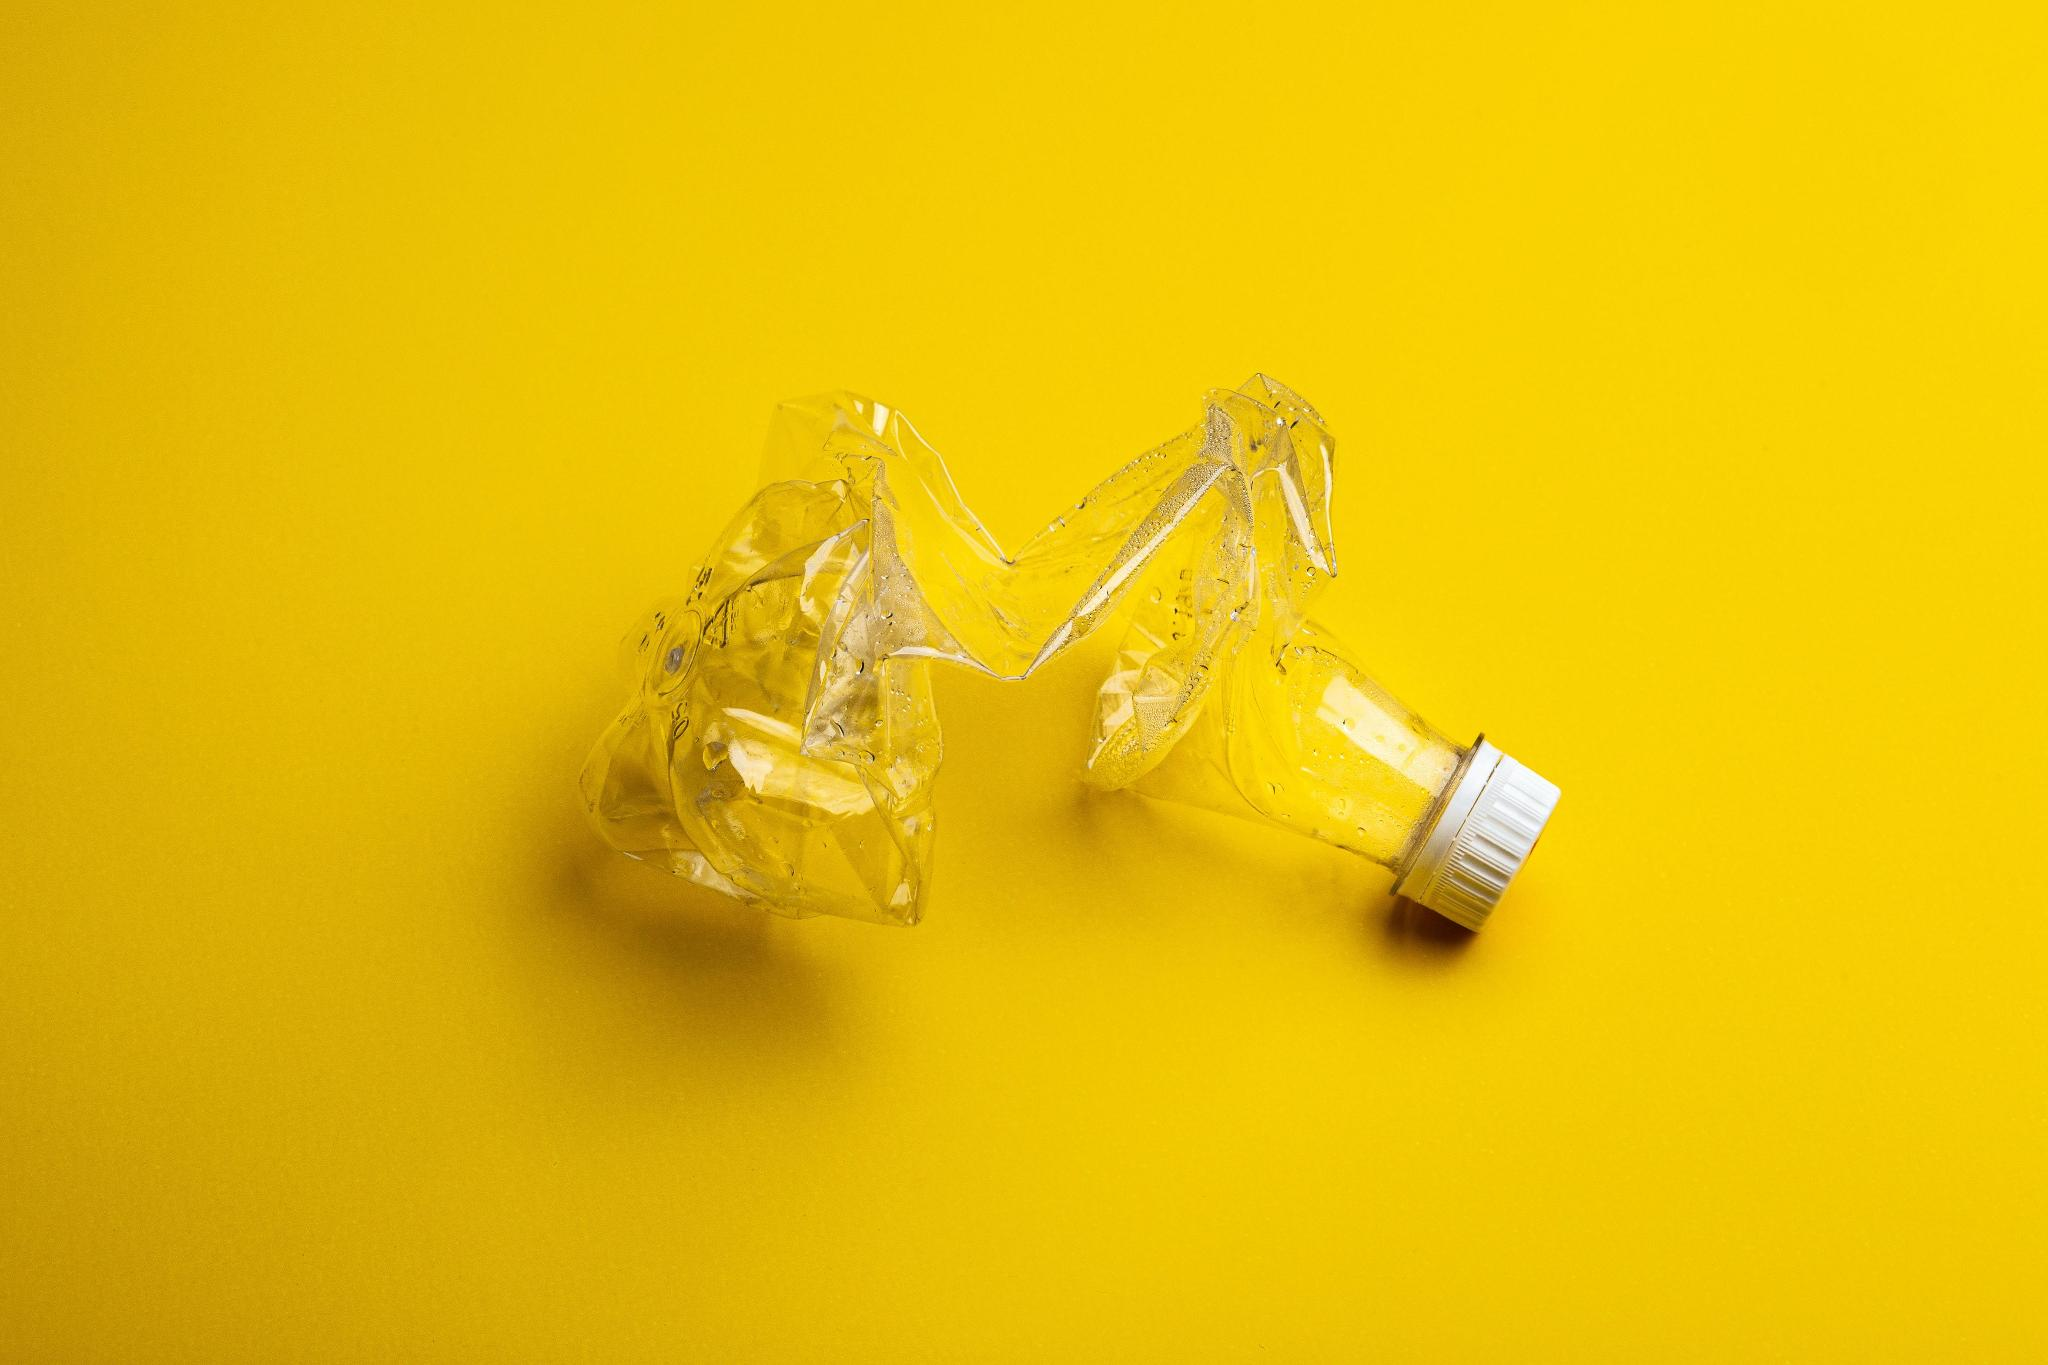bottle: (568, 313, 1618, 1022)
